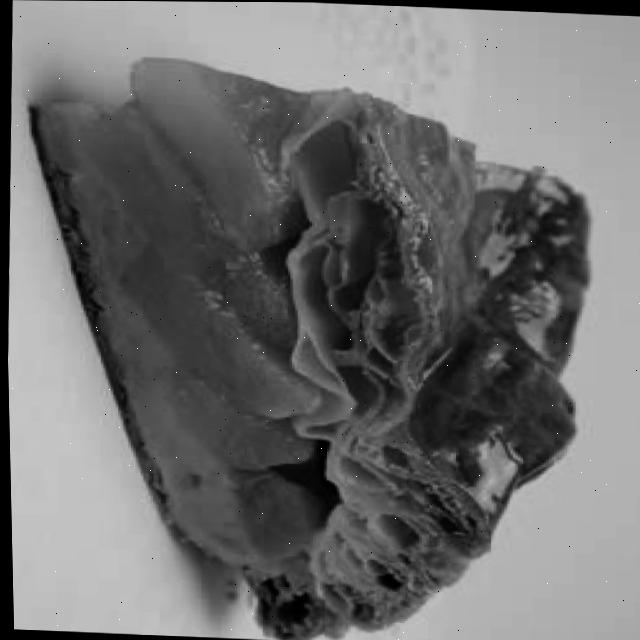炸货点心: (5, 31, 624, 640)
蛋糕甜品: (5, 31, 624, 640)
